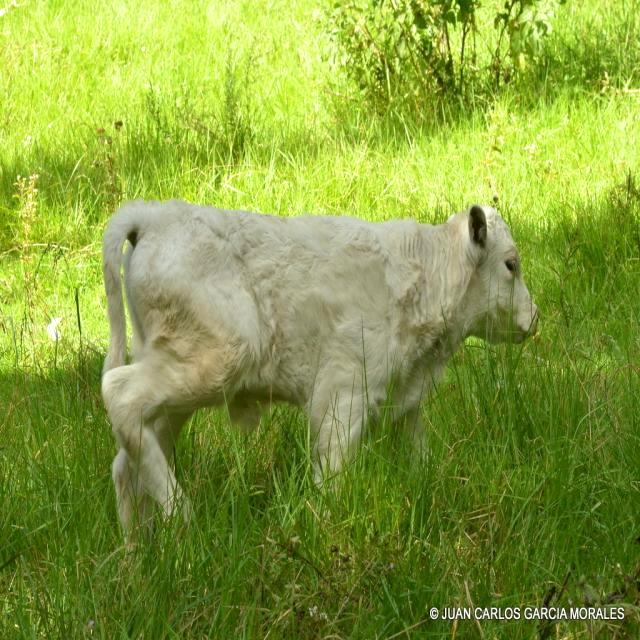COW: (101, 201, 538, 529)
